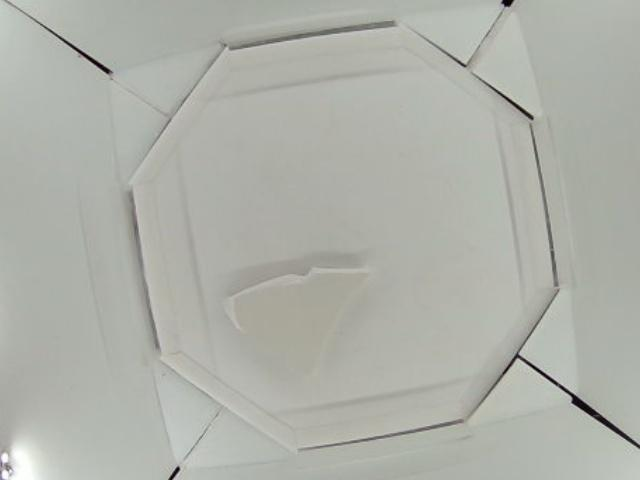China: (223, 265, 374, 384)
